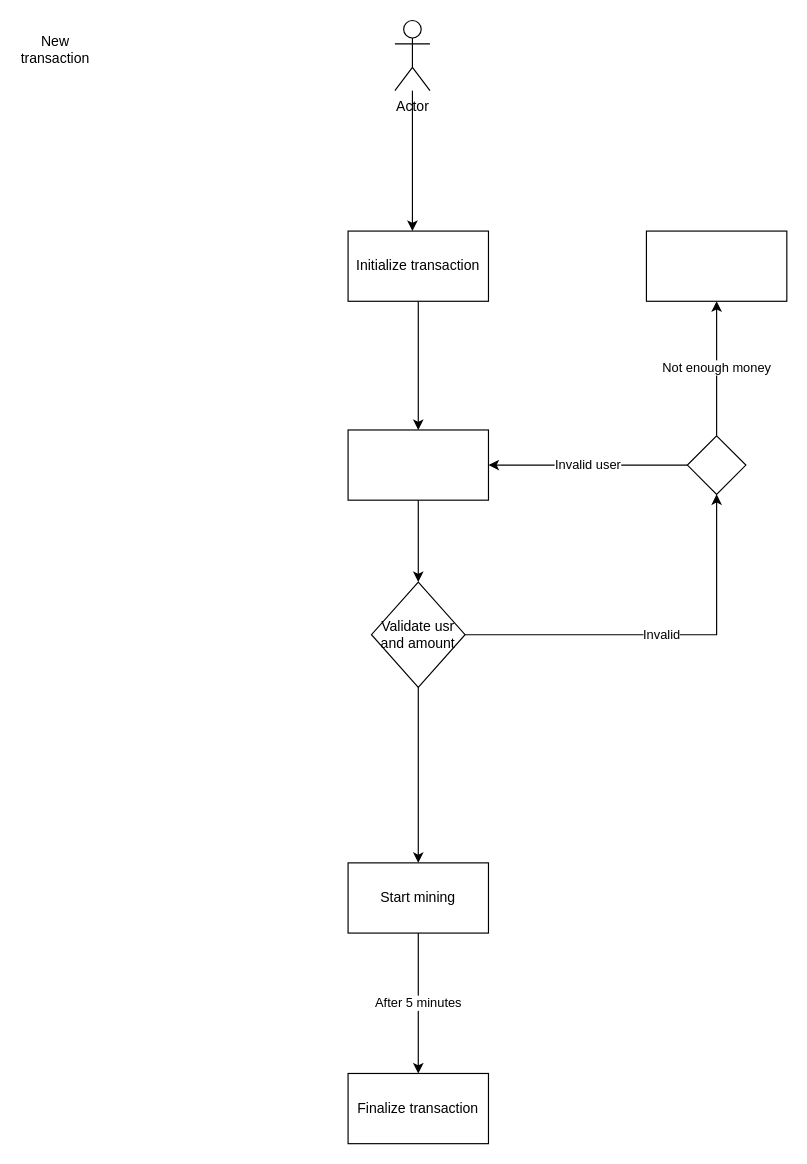
This 807x1164 diagram has some shape labels left out. The shapes that lost their labels are listed below. From the top down, each one's box as (x1, y1, x2, y2) in pixels, then its label:
(645, 230, 787, 301): Return to home page
(347, 429, 488, 500): Fill out form
